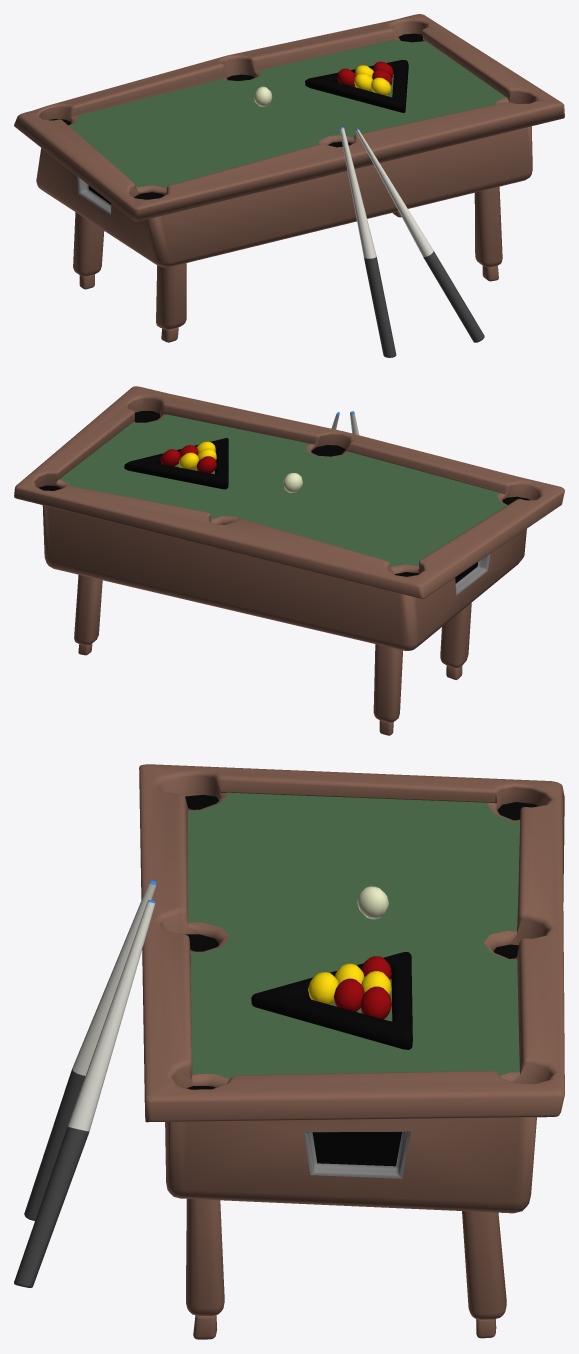
Rendered from props_billard_final.fbx.
The picture shows the model from 3 angles, top to bottom: view 1: azimuth 30°, elevation 25°; view 2: azimuth 150°, elevation 25°; view 3: azimuth 270°, elevation 25°; orthographic projection. The views are drawn at different scales.
Parts seen in each view (by area): view 1: grand horizontal.001; view 2: grand horizontal.001; view 3: grand horizontal.001.
Part boxes in pixels (x1,y1,x2,y2): grand horizontal.001: [14, 14, 564, 357]; grand horizontal.001: [14, 386, 564, 735]; grand horizontal.001: [14, 764, 564, 1339].
Size of the model in its own units: 3.52 by 2.43 by 1.62.
